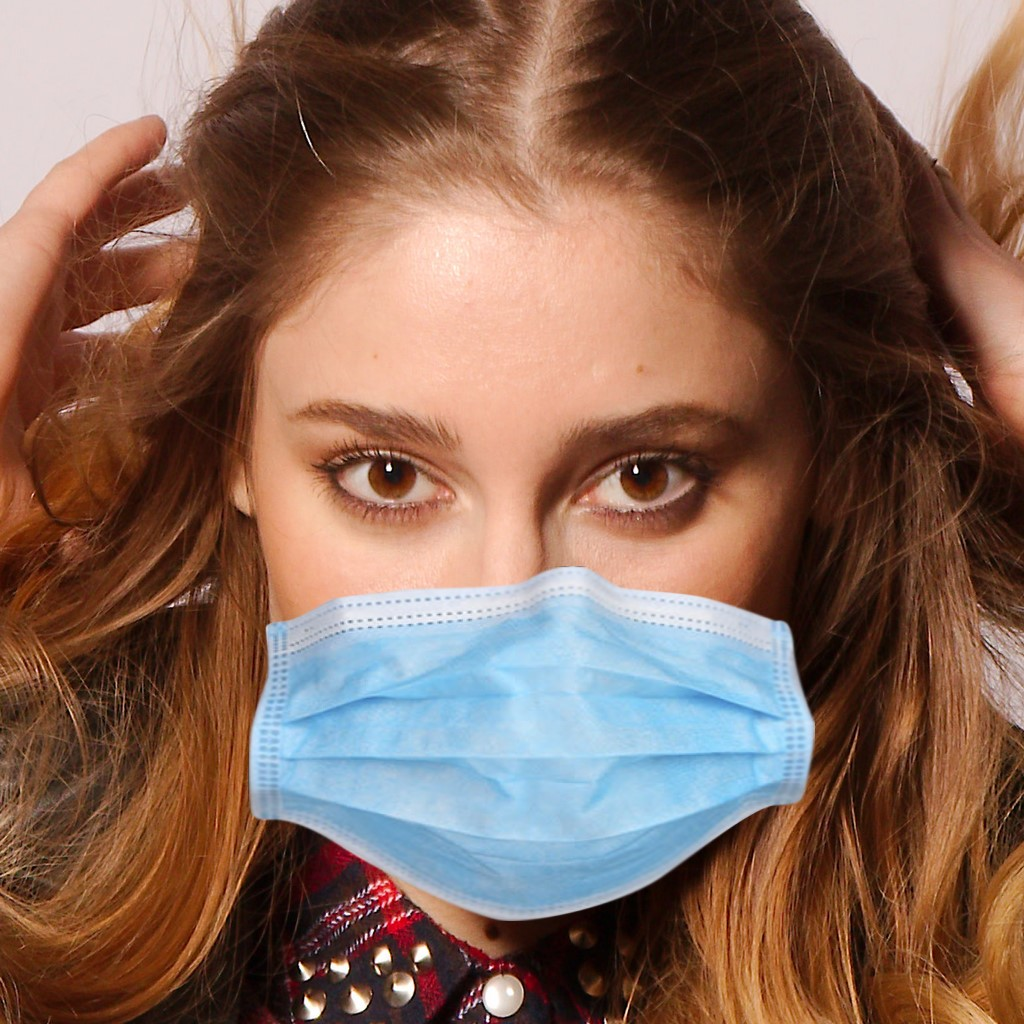con_mascara: (221, 138, 813, 897)
